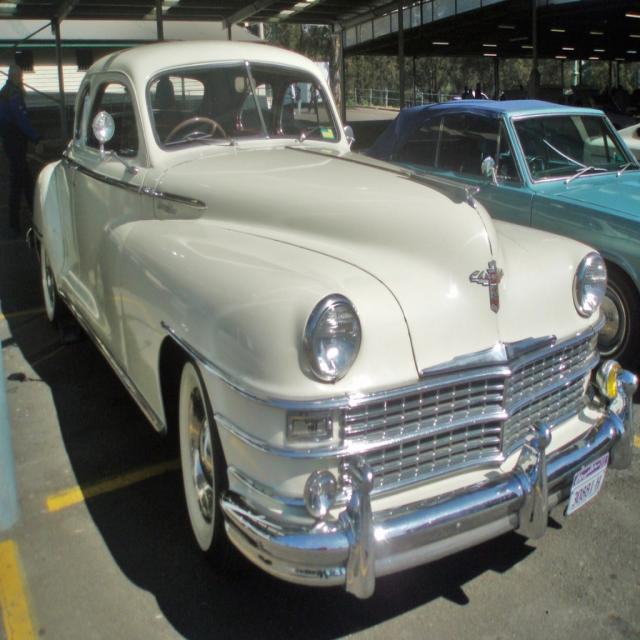car: (24, 37, 639, 605)
